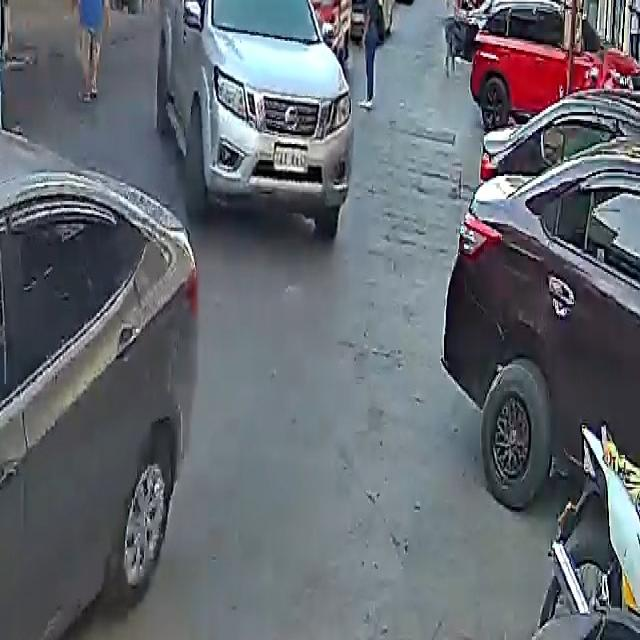car: (0, 99, 208, 640), (444, 98, 640, 521), (154, 0, 356, 231), (468, 0, 636, 130)
